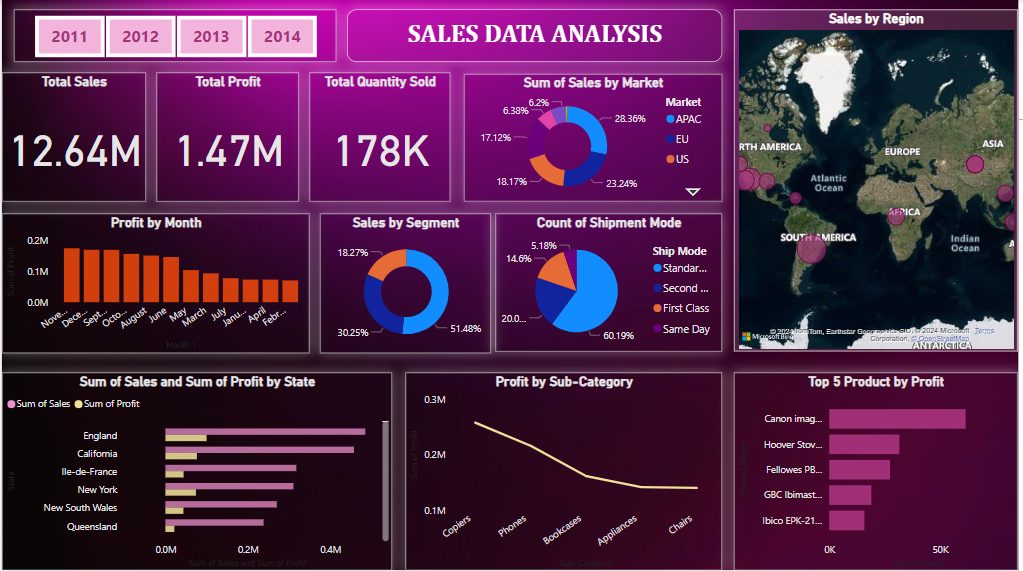

Layout of this report page (visuals, bound fields, positions):
{"tool":"powerbi","page":{"name":"Page 1","canvas":[1280,720],"ordinal":0},"visuals":[{"type":"card","title":"Total Sales","fields":{"Values":["Sum(Orders.Sales)"]},"box":[0,92.6,181.4,162.5],"z":0},{"type":"card","title":"Total Profit","fields":{"Values":["Sum(Orders.Profit)"]},"box":[194.6,92.6,179.5,162.5],"z":1},{"type":"card","title":"Total Quantity Sold","fields":{"Values":["Sum(Orders.Quantity)"]},"box":[387.4,92.6,177.6,162.5],"z":2},{"type":"clusteredBarChart","fields":{"Y":["Sum(Orders.Sales)","Sum(Orders.Profit)"],"Category":["Orders.State"]},"box":[0,470.6,491.3,249.5],"z":3},{"type":"clusteredColumnChart","title":"Profit by Month","fields":{"Category":["Orders.Month.1"],"Y":["Sum(Orders.Profit)"]},"box":[0,270.2,387.4,175.7],"z":4},{"type":"barChart","title":"Top 5 Product by Profit","fields":{"Category":["Orders.Product Name"],"Y":["Sum(Orders.Sales)"]},"box":[922.2,470.6,357.2,249.5],"z":5},{"type":"lineChart","title":"Profit by Sub-Category","fields":{"Y":["Sum(Orders.Profit)"],"Category":["Orders.Sub-Category"]},"box":[508.4,470.6,398.7,249.5],"z":6},{"type":"donutChart","title":" Sales by Segment","fields":{"Y":["Sum(Orders.Sales)"],"Category":["Orders.Segment"]},"box":[400.6,270.2,215.4,175.7],"z":7},{"type":"donutChart","fields":{"Y":["Sum(Orders.Sales)"],"Category":["Orders.Market"]},"box":[582.1,94.5,325,160.6],"z":8},{"type":"pieChart","title":"Count of Shipment Mode","fields":{"Category":["Orders.Ship Mode"],"Y":["Sum(Orders.Quantity)"]},"box":[621.7,270.2,285.4,173.9],"z":9},{"type":"slicer","fields":{"Values":["Orders.Year"]},"box":[15.1,13.2,406.3,66.1],"z":10},{"type":"map","title":"Sales by Region","fields":{"Category":["Orders.Region"],"Size":["Sum(Orders.Sales)"]},"box":[922.2,13.2,357.2,430.9],"z":11},{"type":"textbox","box":[434.6,13.2,472.4,66.1],"z":12}]}

Visuals, with their boxes in screenshot pixels (x1, y1, x2, y2), scaled from the page's 1280x720 canvas onto the 1023x571 screenshot:
"Total Sales" card: rect(0, 73, 145, 202)
"Total Profit" card: rect(156, 73, 299, 202)
"Total Quantity Sold" card: rect(310, 73, 452, 202)
clusteredBarChart - Sum(Orders.Sales) x Sum(Orders.Profit): rect(0, 373, 393, 570)
"Profit by Month" clusteredColumnChart: rect(0, 214, 310, 354)
"Top 5 Product by Profit" barChart: rect(737, 373, 1022, 570)
"Profit by Sub-Category" lineChart: rect(406, 373, 725, 570)
" Sales by Segment" donutChart: rect(320, 214, 492, 354)
donutChart - Sum(Orders.Sales) x Orders.Market: rect(465, 75, 725, 202)
"Count of Shipment Mode" pieChart: rect(497, 214, 725, 352)
slicer - Orders.Year: rect(12, 10, 337, 63)
"Sales by Region" map: rect(737, 10, 1022, 352)
textbox: rect(347, 10, 725, 63)
